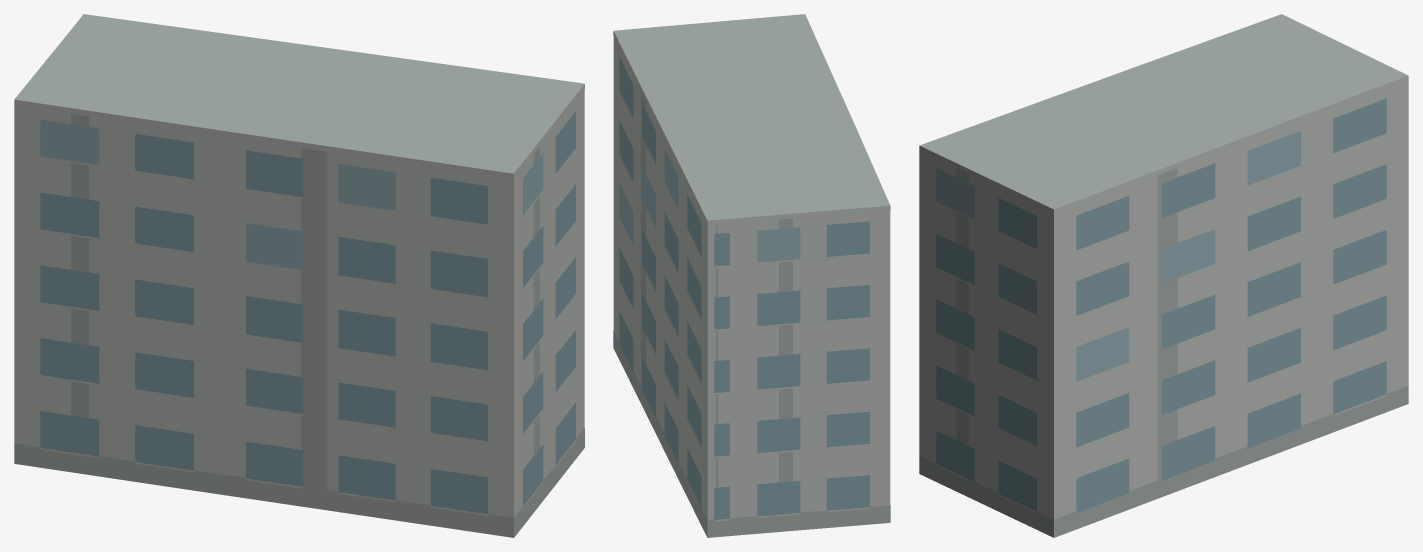
The model's file is survey-upis-32786471.glb.
3 views of the same model, side by side, from view 1: azimuth 30°, elevation 25°; view 2: azimuth 150°, elevation 25°; view 3: azimuth 270°, elevation 25° (orthographic). The views are drawn at different scales.
Visible parts, largest first — view 1: survey-upis-32786471.tmp; view 2: survey-upis-32786471.tmp; view 3: survey-upis-32786471.tmp.
Boxes of the visible parts, x1,y1,x2,y2 form: survey-upis-32786471.tmp: [14, 14, 584, 537]; survey-upis-32786471.tmp: [613, 14, 890, 537]; survey-upis-32786471.tmp: [919, 14, 1408, 537].
Bounding box in the file's own units: 20.56 × 16.1 × 21.74.
